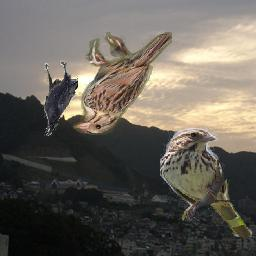Crow: (44, 60, 79, 136)
Sparrow: (74, 33, 173, 136), (160, 129, 252, 238)
